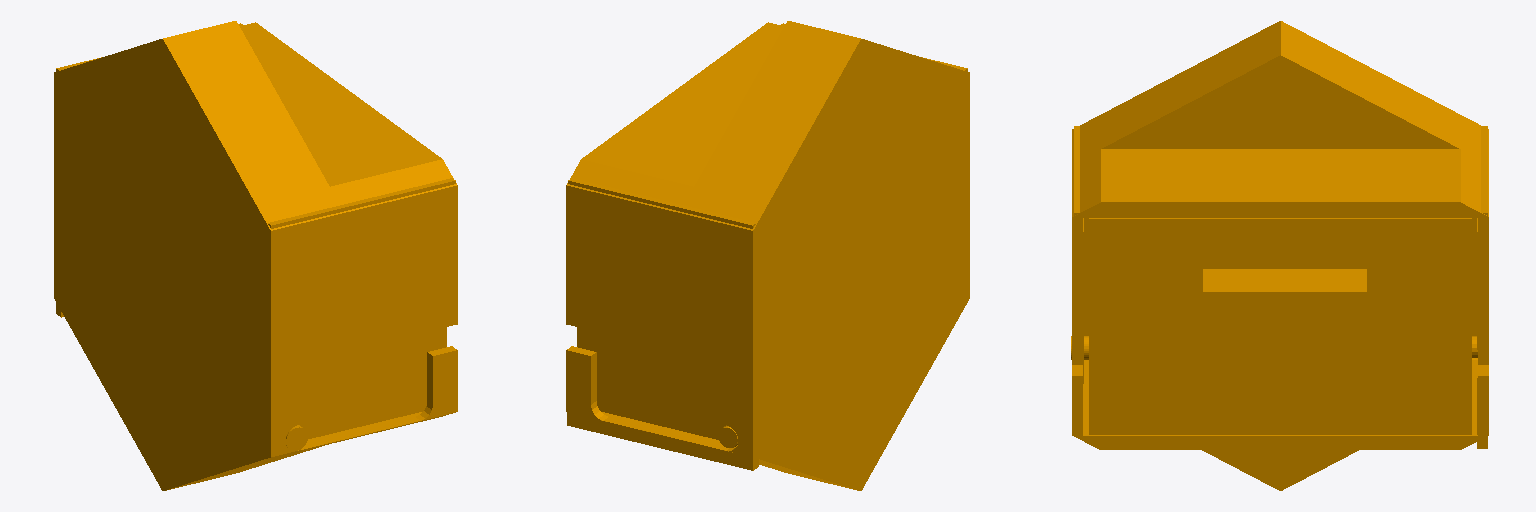
URDF robot description (Drawer_Assembly):
<?xml version='1.0' encoding='utf-8'?>
<robot name="Drawer_Assembly">
  <link name="Drawer_Assembly">
    <visual>
      <origin xyz="0.000000 0.000000 0.000000" rpy="0. 1.5707964 0. " />
      <geometry>
        <mesh filename="meshes/tn__Base1_gA_Corpo1_Mesh.obj" scale="0.001000 0.001000 0.001000" />
      </geometry>
    </visual>
    <visual>
      <origin xyz="0.019000 0.000000 0.022396" rpy="0. 1.5707964 0. " />
      <geometry>
        <mesh filename="meshes/simple_colliders_Cube.obj" scale="0.001000 0.001000 0.001000" />
      </geometry>
    </visual>
    <visual>
      <origin xyz="0.019000 0.000000 -0.022839" rpy="0. 1.5707964 0. " />
      <geometry>
        <mesh filename="meshes/simple_colliders_Cube_01.obj" scale="0.001000 0.001000 0.001000" />
      </geometry>
    </visual>
    <visual>
      <origin xyz="0.000639 0.000000 0.000000" rpy="3.1415927 0. 3.1415927" />
      <geometry>
        <mesh filename="meshes/simple_colliders_Cube_02.obj" scale="0.001000 0.001000 0.001000" />
      </geometry>
    </visual>
    <visual>
      <origin xyz="0.013983 -0.036990 -0.011011" rpy="0. 0. 0." />
      <geometry>
        <mesh filename="meshes/left_Guide_Cube.obj" scale="0.001000 0.001000 0.001000" />
      </geometry>
    </visual>
    <visual>
      <origin xyz="0.024419 -0.036990 0.007061" rpy="0. 0. 0." />
      <geometry>
        <mesh filename="meshes/left_Guide_Cube_01.obj" scale="0.001000 0.001000 0.001000" />
      </geometry>
    </visual>
    <visual>
      <origin xyz="0.019104 -0.036990 -0.023485" rpy="0. 0. 0." />
      <geometry>
        <mesh filename="meshes/left_Guide_Cube_02.obj" scale="0.001000 0.001000 0.001000" />
      </geometry>
    </visual>
    <visual>
      <origin xyz="0.035530 -0.036990 -0.016197" rpy="0. 0. 0." />
      <geometry>
        <mesh filename="meshes/left_Guide_Cube_03.obj" scale="0.001000 0.001000 0.001000" />
      </geometry>
    </visual>
    <visual>
      <origin xyz="0.001747 -0.036990 -0.019452" rpy="0. 0. 0." />
      <geometry>
        <mesh filename="meshes/left_Guide_Cube_04.obj" scale="0.001000 0.001000 0.001000" />
      </geometry>
    </visual>
    <visual>
      <origin xyz="0.025516 -0.037173 -0.014515" rpy="1.5707964 0. 0. " />
      <geometry>
        <mesh filename="meshes/Cylinder.obj" scale="0.001000 0.001000 0.001000" />
      </geometry>
    </visual>
    <visual>
      <origin xyz="0.013983 0.036913 -0.011011" rpy="0. 0. 0." />
      <geometry>
        <mesh filename="meshes/right_Guide_Cube.obj" scale="0.001000 0.001000 0.001000" />
      </geometry>
    </visual>
    <visual>
      <origin xyz="0.024419 0.036913 0.007061" rpy="0. 0. 0." />
      <geometry>
        <mesh filename="meshes/right_Guide_Cube_01.obj" scale="0.001000 0.001000 0.001000" />
      </geometry>
    </visual>
    <visual>
      <origin xyz="0.019104 0.036913 -0.023485" rpy="0. 0. 0." />
      <geometry>
        <mesh filename="meshes/right_Guide_Cube_02.obj" scale="0.001000 0.001000 0.001000" />
      </geometry>
    </visual>
    <visual>
      <origin xyz="0.035530 0.036913 -0.016197" rpy="0. 0. 0." />
      <geometry>
        <mesh filename="meshes/right_Guide_Cube_03.obj" scale="0.001000 0.001000 0.001000" />
      </geometry>
    </visual>
    <visual>
      <origin xyz="0.001747 0.036913 -0.019452" rpy="0. 0. 0." />
      <geometry>
        <mesh filename="meshes/right_Guide_Cube_04.obj" scale="0.001000 0.001000 0.001000" />
      </geometry>
    </visual>
    <visual>
      <origin xyz="0.025516 0.037110 -0.014515" rpy="1.5707964 0. 0. " />
      <geometry>
        <mesh filename="meshes/right_Guide_Cylinder_01.obj" scale="0.001000 0.001000 0.001000" />
      </geometry>
    </visual>
    <visual>
      <origin xyz="0.002700 -0.035000 -0.022000" rpy="0. 0. 0." />
      <geometry>
        <mesh filename="meshes/tn__Gaveta1_aE_Corpo1_Mesh.obj" scale="0.001000 0.001000 0.001000" />
      </geometry>
    </visual>
    <visual>
      <origin xyz="0.005229 -0.036636 -0.019627" rpy="1.5707964 0. 0. " />
      <geometry>
        <mesh filename="meshes/tn__Gaveta1_aE_Corpo1_Cylinder_01.obj" scale="0.001000 0.001000 0.001000" />
      </geometry>
    </visual>
    <visual>
      <origin xyz="0.005229 0.036635 -0.019627" rpy="1.5707964 0. 0. " />
      <geometry>
        <mesh filename="meshes/Cylinder_02.obj" scale="0.001000 0.001000 0.001000" />
      </geometry>
    </visual>
    <collision>
      <origin xyz="0.019000 0.000000 0.022396" rpy="0. 1.5707964 0. " />
      <geometry>
        <mesh filename="meshes/simple_colliders_Cube.obj" scale="0.001000 0.001000 0.001000" />
      </geometry>
    </collision>
    <collision>
      <origin xyz="0.019000 0.000000 -0.022839" rpy="0. 1.5707964 0. " />
      <geometry>
        <mesh filename="meshes/simple_colliders_Cube_01.obj" scale="0.001000 0.001000 0.001000" />
      </geometry>
    </collision>
    <collision>
      <origin xyz="0.000639 0.000000 0.000000" rpy="3.1415927 0. 3.1415927" />
      <geometry>
        <mesh filename="meshes/simple_colliders_Cube_02.obj" scale="0.001000 0.001000 0.001000" />
      </geometry>
    </collision>
    <collision>
      <origin xyz="0.013983 -0.036990 -0.011011" rpy="0. 0. 0." />
      <geometry>
        <mesh filename="meshes/left_Guide_Cube.obj" scale="0.001000 0.001000 0.001000" />
      </geometry>
    </collision>
    <collision>
      <origin xyz="0.024419 -0.036990 0.007061" rpy="0. 0. 0." />
      <geometry>
        <mesh filename="meshes/left_Guide_Cube_01.obj" scale="0.001000 0.001000 0.001000" />
      </geometry>
    </collision>
    <collision>
      <origin xyz="0.019104 -0.036990 -0.023485" rpy="0. 0. 0." />
      <geometry>
        <mesh filename="meshes/left_Guide_Cube_02.obj" scale="0.001000 0.001000 0.001000" />
      </geometry>
    </collision>
    <collision>
      <origin xyz="0.035530 -0.036990 -0.016197" rpy="0. 0. 0." />
      <geometry>
        <mesh filename="meshes/left_Guide_Cube_03.obj" scale="0.001000 0.001000 0.001000" />
      </geometry>
    </collision>
    <collision>
      <origin xyz="0.001747 -0.036990 -0.019452" rpy="0. 0. 0." />
      <geometry>
        <mesh filename="meshes/left_Guide_Cube_04.obj" scale="0.001000 0.001000 0.001000" />
      </geometry>
    </collision>
    <collision>
      <origin xyz="0.025516 -0.037173 -0.014515" rpy="1.5707964 0. 0. " />
      <geometry>
        <mesh filename="meshes/Cylinder.obj" scale="0.001000 0.001000 0.001000" />
      </geometry>
    </collision>
    <collision>
      <origin xyz="0.013983 0.036913 -0.011011" rpy="0. 0. 0." />
      <geometry>
        <mesh filename="meshes/right_Guide_Cube.obj" scale="0.001000 0.001000 0.001000" />
      </geometry>
    </collision>
    <collision>
      <origin xyz="0.024419 0.036913 0.007061" rpy="0. 0. 0." />
      <geometry>
        <mesh filename="meshes/right_Guide_Cube_01.obj" scale="0.001000 0.001000 0.001000" />
      </geometry>
    </collision>
    <collision>
      <origin xyz="0.019104 0.036913 -0.023485" rpy="0. 0. 0." />
      <geometry>
        <mesh filename="meshes/right_Guide_Cube_02.obj" scale="0.001000 0.001000 0.001000" />
      </geometry>
    </collision>
    <collision>
      <origin xyz="0.035530 0.036913 -0.016197" rpy="0. 0. 0." />
      <geometry>
        <mesh filename="meshes/right_Guide_Cube_03.obj" scale="0.001000 0.001000 0.001000" />
      </geometry>
    </collision>
    <collision>
      <origin xyz="0.001747 0.036913 -0.019452" rpy="0. 0. 0." />
      <geometry>
        <mesh filename="meshes/right_Guide_Cube_04.obj" scale="0.001000 0.001000 0.001000" />
      </geometry>
    </collision>
    <collision>
      <origin xyz="0.025516 0.037110 -0.014515" rpy="1.5707964 0. 0. " />
      <geometry>
        <mesh filename="meshes/right_Guide_Cylinder_01.obj" scale="0.001000 0.001000 0.001000" />
      </geometry>
    </collision>
    <collision>
      <origin xyz="0.002700 -0.035000 -0.022000" rpy="0. 0. 0." />
      <geometry>
        <mesh filename="meshes/tn__Gaveta1_aE_Corpo1_Mesh.obj" scale="0.001000 0.001000 0.001000" />
      </geometry>
    </collision>
    <collision>
      <origin xyz="0.005229 -0.036636 -0.019627" rpy="1.5707964 0. 0. " />
      <geometry>
        <mesh filename="meshes/tn__Gaveta1_aE_Corpo1_Cylinder_01.obj" scale="0.001000 0.001000 0.001000" />
      </geometry>
    </collision>
    <collision>
      <origin xyz="0.005229 0.036635 -0.019627" rpy="1.5707964 0. 0. " />
      <geometry>
        <mesh filename="meshes/Cylinder_02.obj" scale="0.001000 0.001000 0.001000" />
      </geometry>
    </collision>
  </link>
</robot>

--- Render facts (derived) ---
The picture shows the robot from 3 angles, left to right: view 1: azimuth 30°, elevation 25°; view 2: azimuth 150°, elevation 25°; view 3: azimuth 270°, elevation 25°; orthographic projection.
Model Drawer_Assembly with 1 links and 0 joints (none), rooted at Drawer_Assembly, posed every joint at zero.
Links seen in each view (by area): view 1: Drawer_Assembly; view 2: Drawer_Assembly; view 3: Drawer_Assembly.
Boxes of the visible links, box(x1,y1,x2,y2) form: Drawer_Assembly: box(54, 21, 457, 490); Drawer_Assembly: box(566, 21, 969, 490); Drawer_Assembly: box(1071, 21, 1488, 490).
Size in the robot's own frame: 0.0477 by 0.0765 by 0.0881 metres.
13 mesh visuals loaded from 19 distinct referenced files (13 OBJ); not drawn: 6 (reference not matched to a file when rendering).
